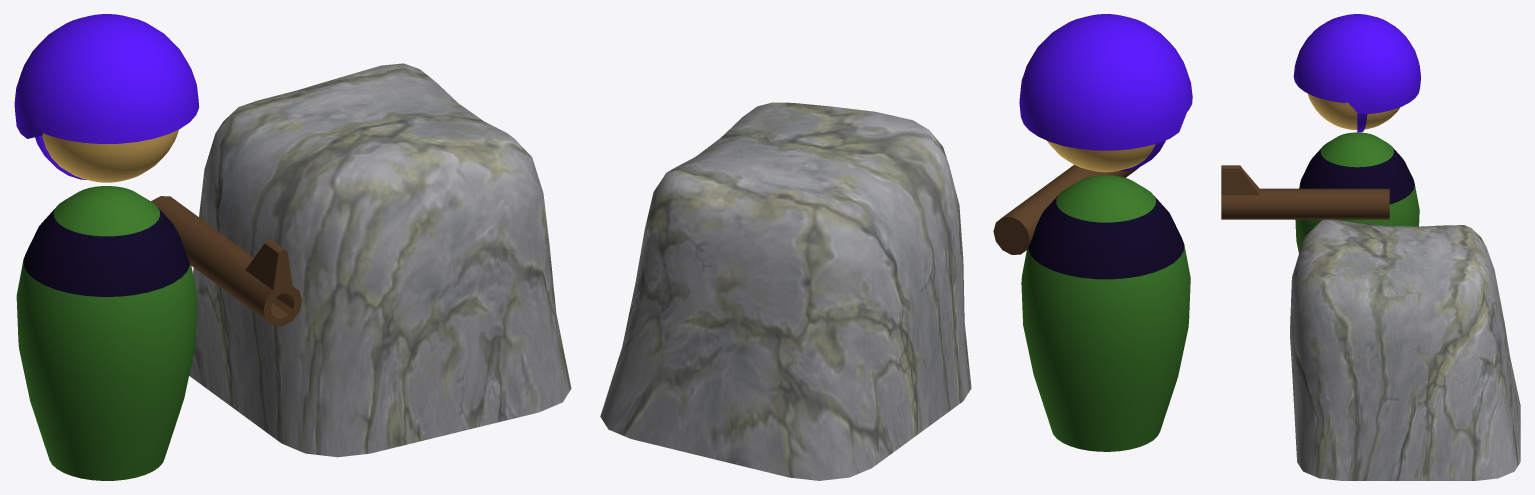
Rendered from battlefield.FBX.
3 views of the same model, side by side, from view 1: azimuth 30°, elevation 25°; view 2: azimuth 150°, elevation 25°; view 3: azimuth 270°, elevation 25° (orthographic). The views are drawn at different scales.
Parts seen in each view (by area): view 1: Stone, Grunt; view 2: Stone, Grunt; view 3: Stone, Grunt.
Boxes of the visible parts, x1,y1,x2,y2 form: Stone: (189,63,571,457); Grunt: (14,14,302,480); Stone: (600,102,971,480); Grunt: (993,14,1192,451); Stone: (1290,219,1520,480); Grunt: (1221,14,1420,252).
Size of the model in its own units: 1.87 by 1.54 by 1.34.
Materials: 3 (1 with a texture image).
